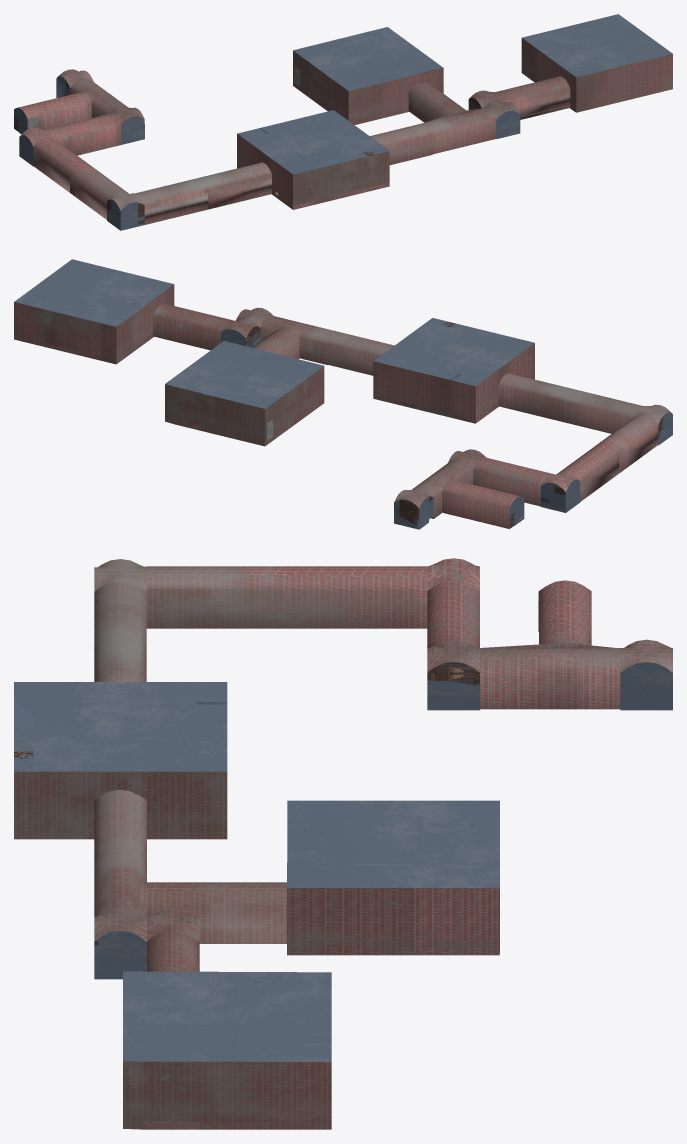
File: room 2 jadi.fbx
3 views of the same model, one above another, from view 1: azimuth 30°, elevation 25°; view 2: azimuth 150°, elevation 25°; view 3: azimuth 270°, elevation 25° (orthographic). The views are drawn at different scales.
Visible parts, largest first — view 1: brick, base; view 2: brick, base; view 3: brick, base.
Boxes of the visible parts, x1,y1,x2,y2 form: brick: (18,38,672,224); base: (14,14,672,230); brick: (14,284,672,528); base: (14,259,672,529); brick: (14,558,672,1129); base: (14,662,672,1062).
Bounding box in the file's own units: 227 × 13.91 × 122.
